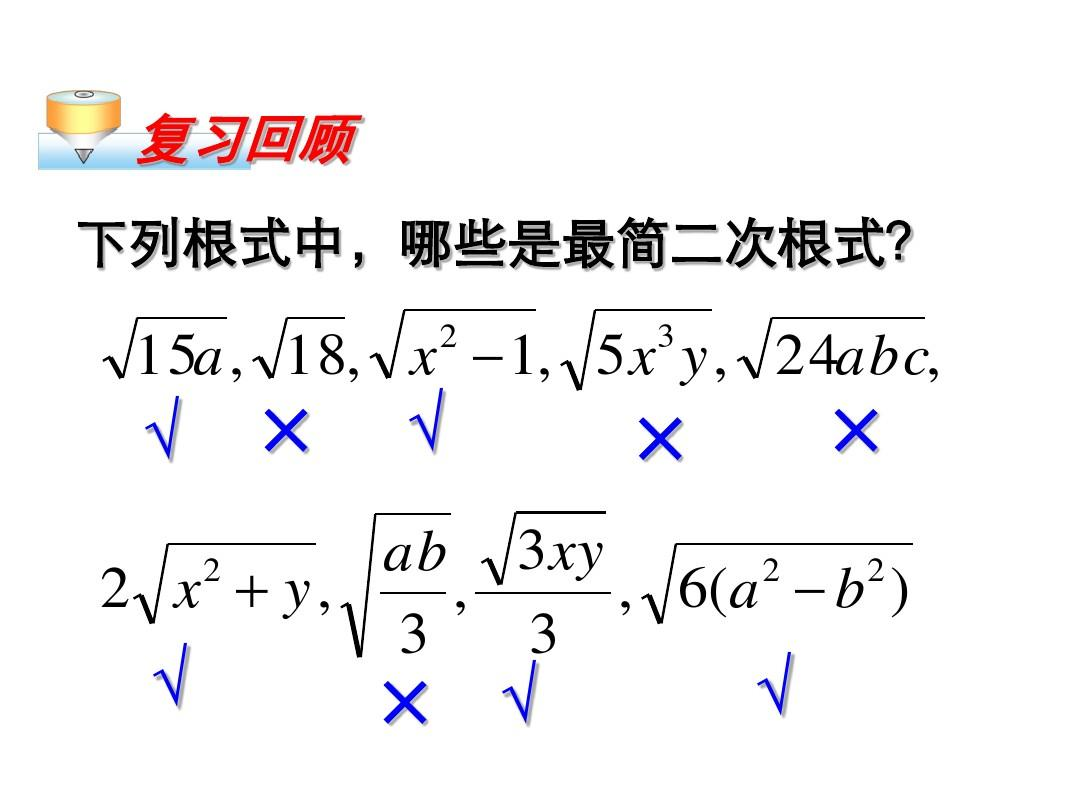cube: (654, 321, 678, 348)
division: (467, 584, 619, 603), (379, 585, 444, 599)
sqrt: (640, 536, 920, 629), (343, 509, 453, 658), (133, 537, 310, 626), (740, 310, 939, 386), (558, 300, 716, 391), (371, 304, 540, 378), (485, 505, 611, 590), (94, 308, 230, 379), (246, 311, 351, 380)
square: (199, 555, 225, 585), (436, 319, 458, 352), (762, 555, 782, 584), (866, 558, 883, 581)
